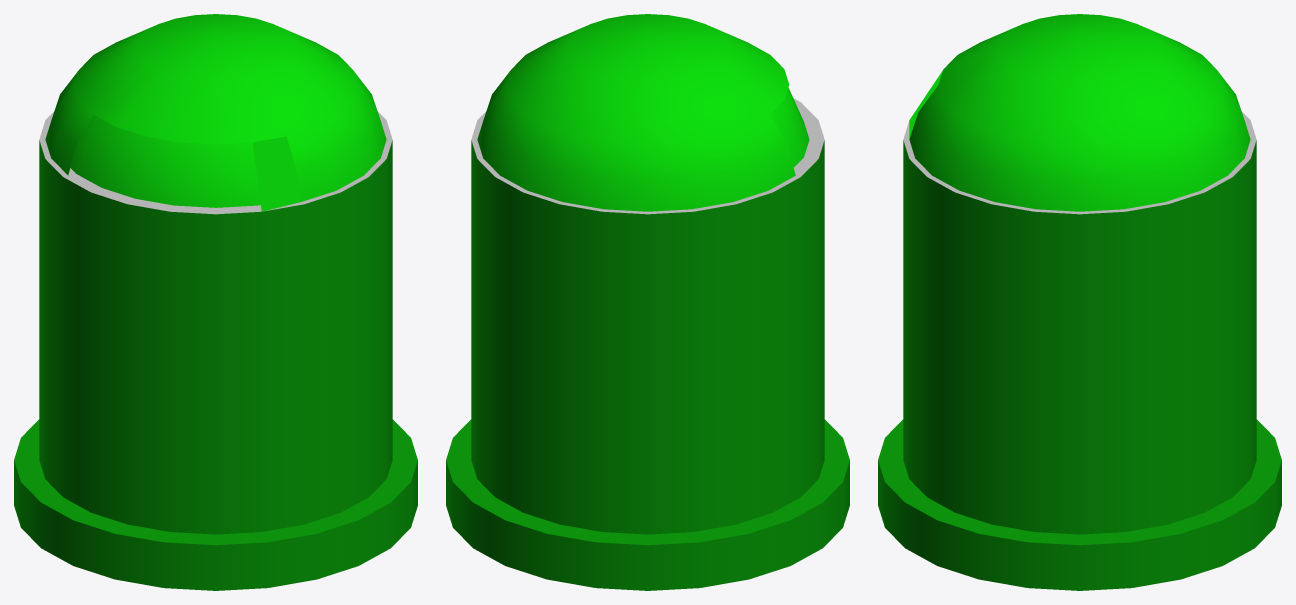
File: Rubbish Bin.fbx
3 renders of one model, left to right at view 1: azimuth 30°, elevation 25°; view 2: azimuth 150°, elevation 25°; view 3: azimuth 270°, elevation 25°, orthographic.
Visible parts, largest first — view 1: RubbishBin; view 2: RubbishBin; view 3: RubbishBin.
Part boxes in pixels (x1=…): RubbishBin: x1=14, y1=14, x2=417, y2=590; RubbishBin: x1=446, y1=14, x2=849, y2=590; RubbishBin: x1=878, y1=14, x2=1281, y2=590.
Size of the model in its own units: 400 by 510 by 400.
